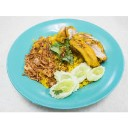briyani: (31, 33, 100, 85)
